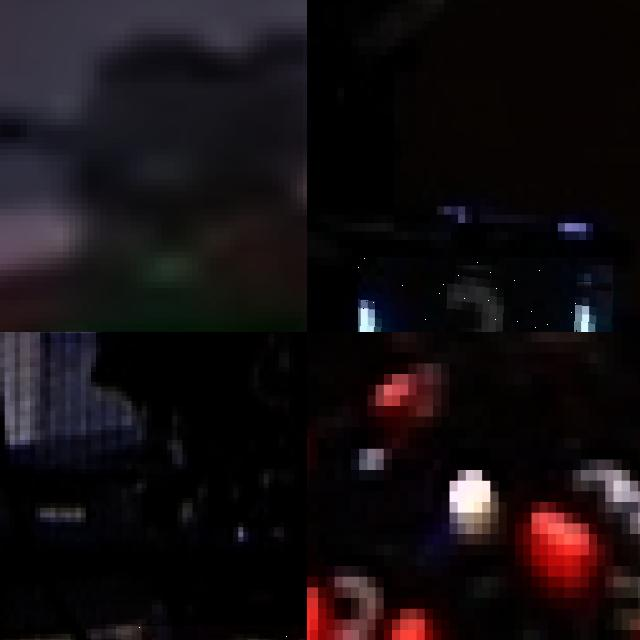B3: (358, 256, 614, 332)
R3: (307, 565, 433, 640)
